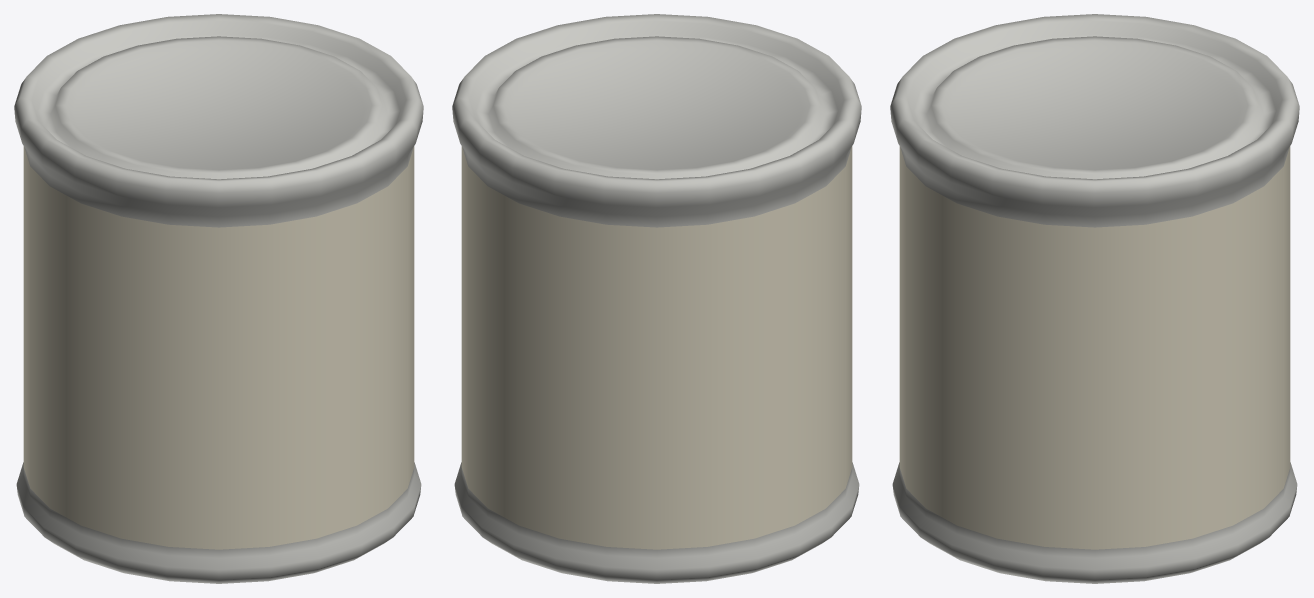
File: js_can_0.glb
3 views of the same model, side by side, from view 1: azimuth 30°, elevation 25°; view 2: azimuth 150°, elevation 25°; view 3: azimuth 270°, elevation 25° (orthographic).
Visible parts, largest first — view 1: js_can_0; view 2: js_can_0; view 3: js_can_0.
Part boxes in pixels (x1,y1,x2,y2): js_can_0: (14,14,423,583); js_can_0: (452,14,861,583); js_can_0: (890,14,1299,583).
Bounding box in the file's own units: 0.174 × 0.19 × 0.174.
